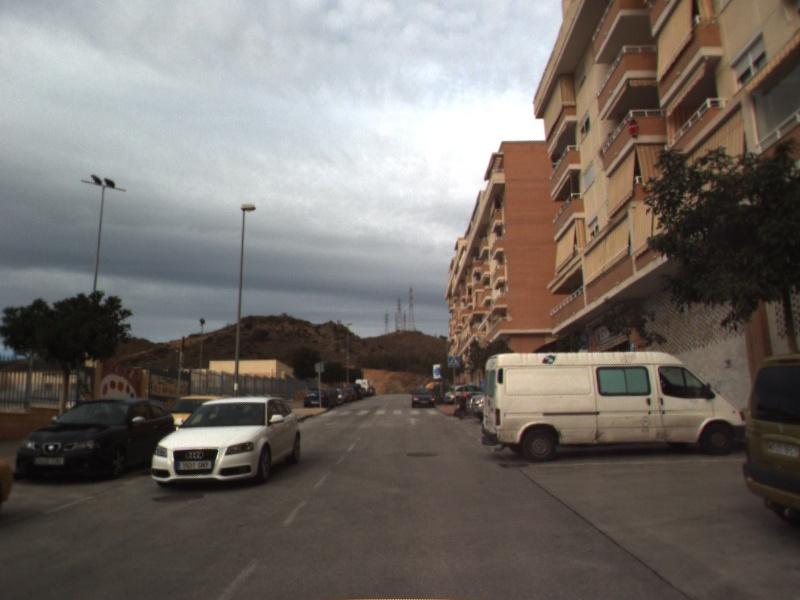STRAIGHT: (403, 416, 422, 427)
